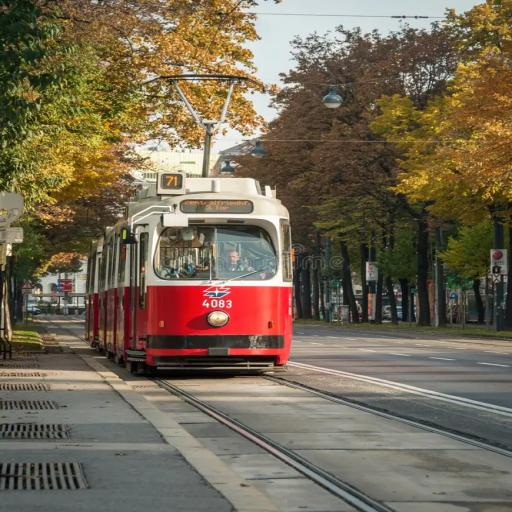E2-Tram: (82, 169, 303, 403)
